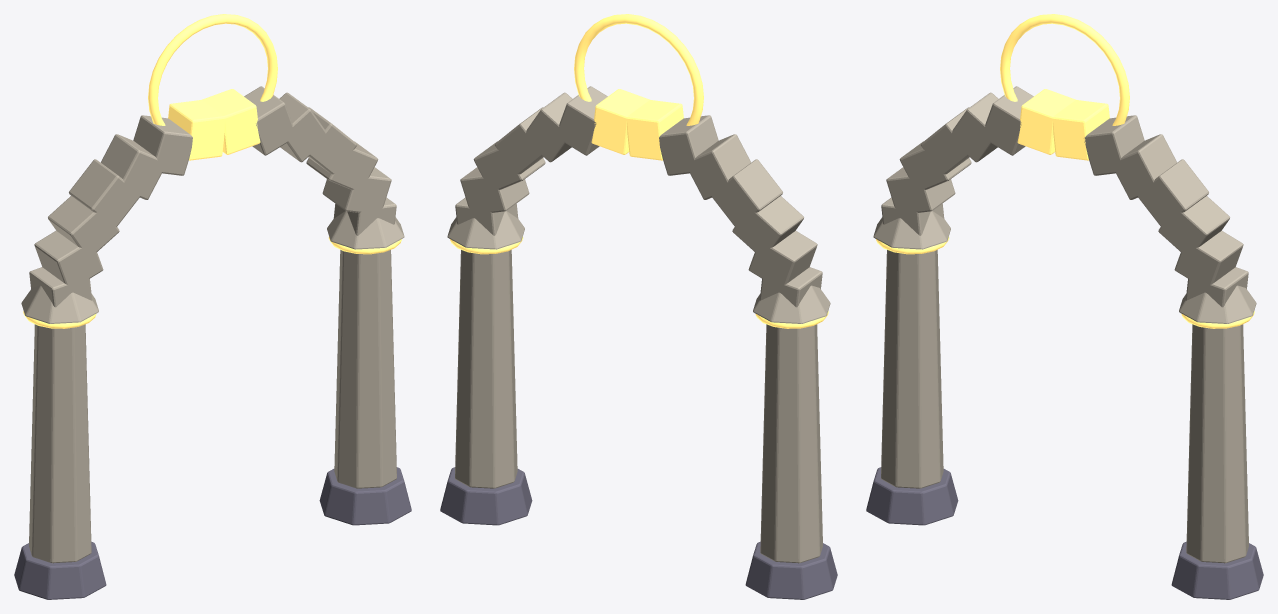
Rendered from world_gate.glb.
3 views of the same model, side by side, from view 1: azimuth 30°, elevation 25°; view 2: azimuth 150°, elevation 25°; view 3: azimuth 330°, elevation 25° (orthographic).
Parts seen in each view (by area): view 1: PillarShaftL, PillarShaftR, PillarBaseL, PillarBaseR, CrownHalo, ArchStone10, ArchStone9, ArchStone8, ArchStone7, ArchStone12, ArchStone11, ArchStone6 (+9 smaller); view 2: PillarShaftL, PillarShaftR, PillarBaseL, PillarBaseR, CrownHalo, ArchStone10, ArchStone8, ArchStone7, ArchStone11, ArchStone9, ArchStone12, ArchStone6 (+9 smaller); view 3: PillarShaftR, PillarShaftL, PillarBaseR, PillarBaseL, CrownHalo, ArchStone3, ArchStone5, ArchStone2, ArchStone6, ArchStone1, ArchStone4, ArchStone7 (+9 smaller).
Part boxes in pixels (<box>): PillarShaftL: <box>29,324,91,563</box>; PillarShaftR: <box>334,250,396,488</box>; PillarBaseL: <box>14,541,106,599</box>; PillarBaseR: <box>319,467,411,525</box>; CrownHalo: <box>148,14,277,125</box>; ArchStone10: <box>69,159,139,227</box>; ArchStone9: <box>101,134,165,199</box>; ArchStone8: <box>133,115,192,175</box>; ArchStone7: <box>168,100,224,160</box>; ArchStone12: <box>34,231,103,289</box>; ArchStone11: <box>48,196,119,257</box>; ArchStone6: <box>202,89,260,154</box>; PillarShaftL: <box>760,324,822,563</box>; PillarShaftR: <box>455,250,517,488</box>; PillarBaseL: <box>745,541,837,599</box>; PillarBaseR: <box>440,467,532,525</box>; CrownHalo: <box>574,14,703,125</box>; ArchStone10: <box>712,159,782,227</box>; ArchStone8: <box>659,115,718,175</box>; ArchStone7: <box>627,100,683,160</box>; ArchStone11: <box>732,196,803,257</box>; ArchStone9: <box>690,134,750,199</box>; ArchStone12: <box>748,231,817,284</box>; ArchStone6: <box>591,89,649,154</box>; PillarShaftR: <box>1186,324,1248,563</box>; PillarShaftL: <box>881,250,943,488</box>; PillarBaseR: <box>1171,541,1263,599</box>; PillarBaseL: <box>866,467,958,525</box>; CrownHalo: <box>1000,14,1129,125</box>; ArchStone3: <box>1138,159,1208,227</box>; ArchStone5: <box>1084,115,1144,175</box>; ArchStone2: <box>1158,196,1229,257</box>; ArchStone6: <box>1053,100,1109,160</box>; ArchStone1: <box>1174,231,1243,284</box>; ArchStone4: <box>1112,134,1176,199</box>; ArchStone7: <box>1017,89,1075,154</box>.
Size of the model in its own units: 10.66 by 13.87 by 2.26.
